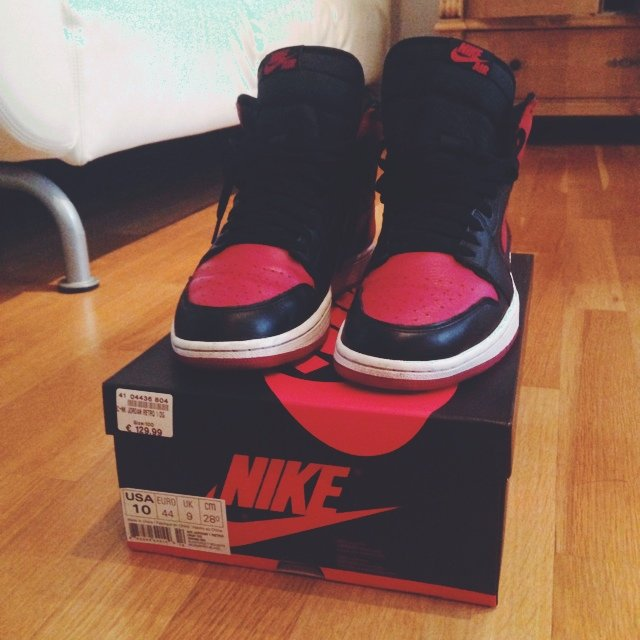Air Jordan 1 Bred: (328, 21, 545, 399), (165, 14, 387, 377)
